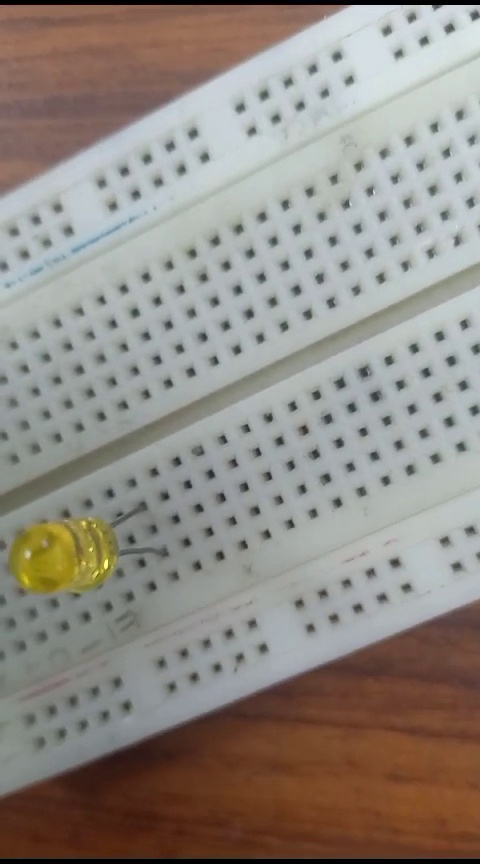LED: (14, 511, 172, 597)
